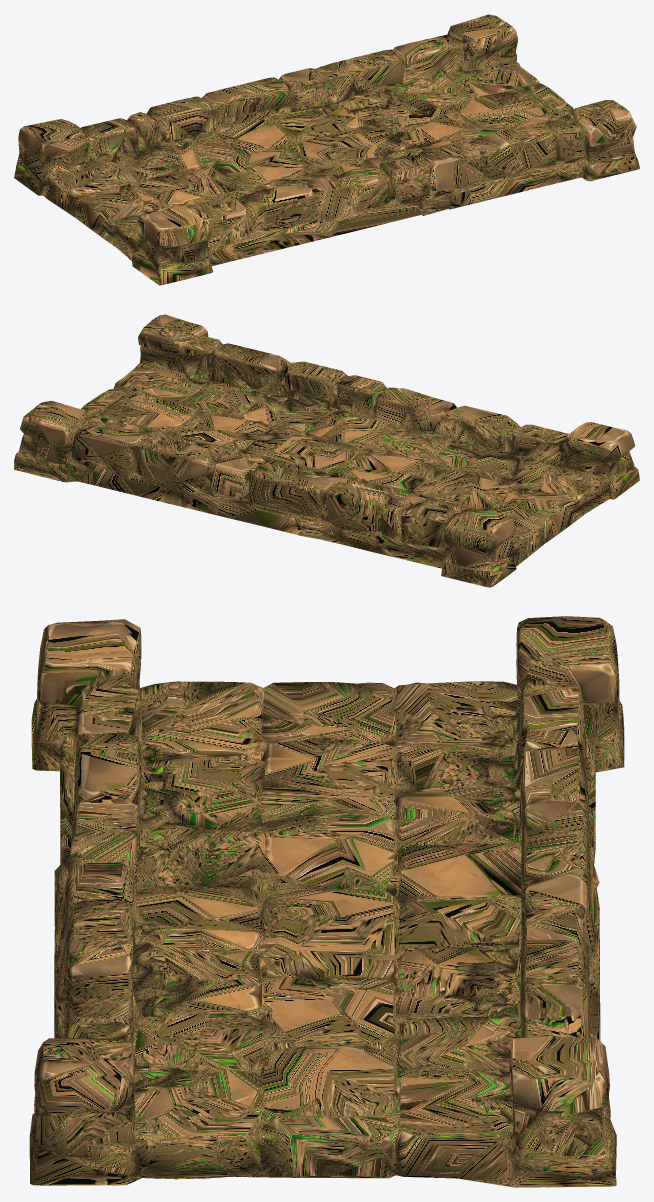
The model's file is Bridge.lod.rt.glb.
3 views of the same model, one above another, from view 1: azimuth 30°, elevation 25°; view 2: azimuth 150°, elevation 25°; view 3: azimuth 270°, elevation 25° (orthographic). The views are drawn at different scales.
Visible parts, largest first — view 1: output_unwrapped; view 2: output_unwrapped; view 3: output_unwrapped.
Boxes of the visible parts, x1,y1,x2,y2 form: output_unwrapped: (14,14,639,285); output_unwrapped: (14,314,639,587); output_unwrapped: (29,616,624,1187).
Size of the model in its own units: 1.9 by 0.2007 by 1.01.
Materials: 1 (1 with a texture image).
